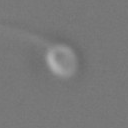normal: (1, 18, 54, 47)
